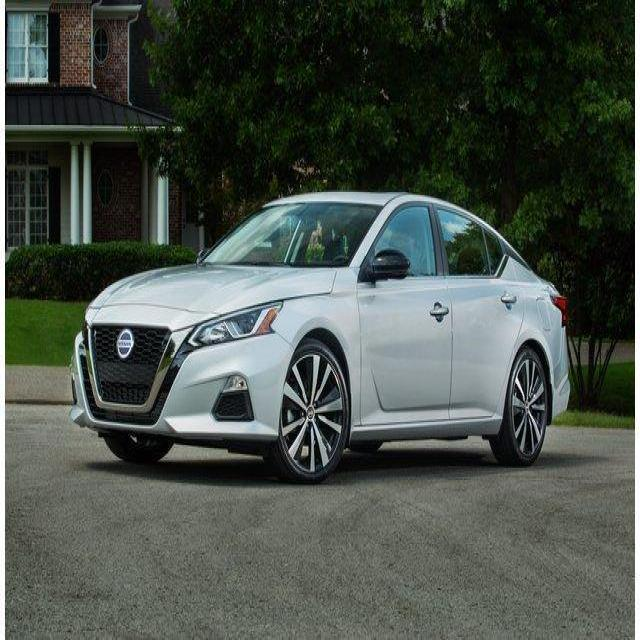back_left_door: (433, 202, 524, 419)
front_bumper: (64, 302, 295, 438)
front_glass: (203, 204, 385, 267)
front_left_door: (357, 200, 453, 423)
front_left_light: (186, 305, 279, 352)
hood: (100, 259, 336, 314)
left_mirror: (362, 249, 409, 280)
wheel: (278, 338, 549, 480)
